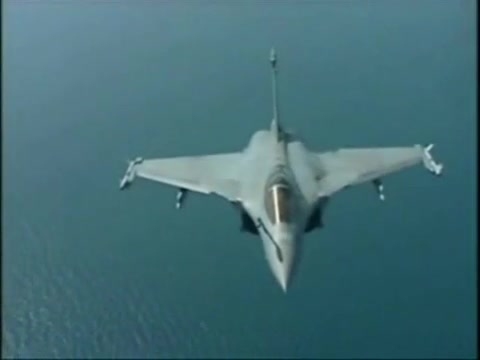aeroplane: (118, 47, 445, 295)
